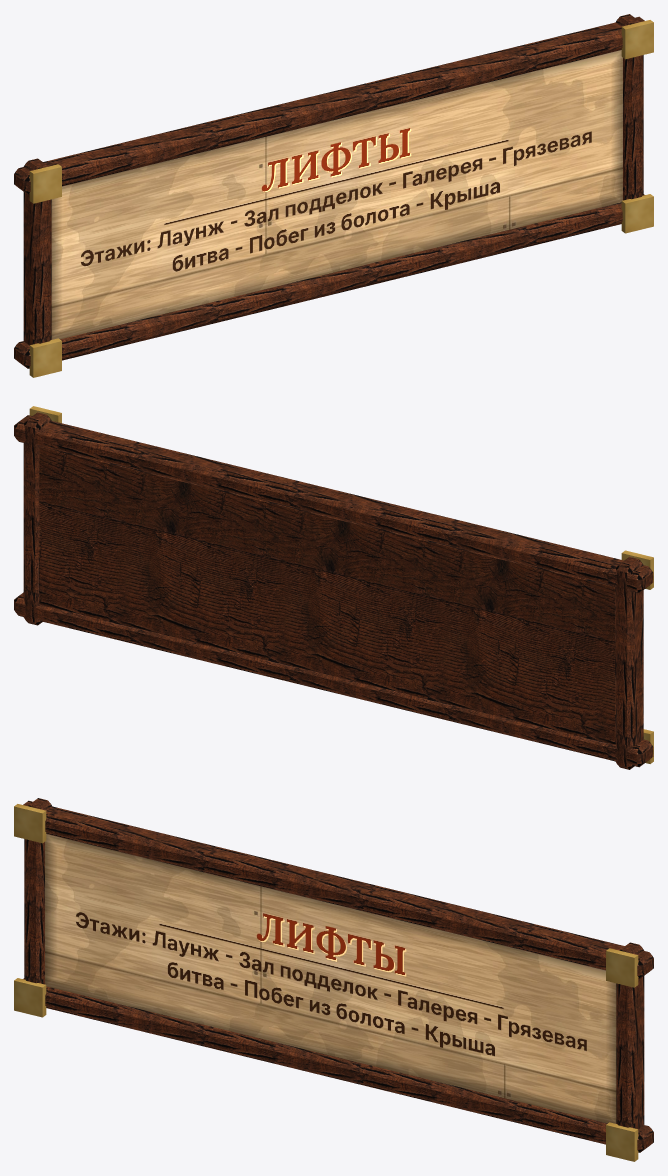
The model's file is sg_ru_lifts.glb.
3 renders of one model, top to bottom at view 1: azimuth 30°, elevation 25°; view 2: azimuth 150°, elevation 25°; view 3: azimuth 330°, elevation 25°, orthographic.
Visible parts, largest first — view 1: spire; view 2: spire; view 3: spire.
Part boxes in pixels (x1=…): spire: x1=14, y1=14, x2=653, y2=377; spire: x1=14, y1=406, x2=653, y2=769; spire: x1=14, y1=798, x2=653, y2=1161.
Bounding box in the file's own units: 3.96 × 1.23 × 0.19.
3 materials, 3 textured.
